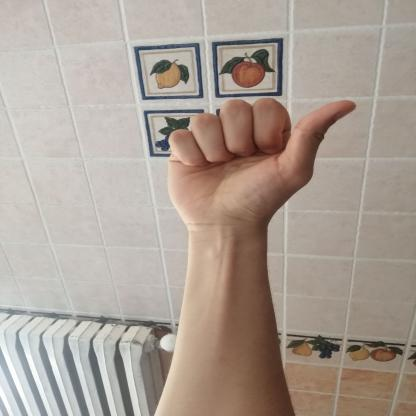DAD: (153, 89, 368, 234)
